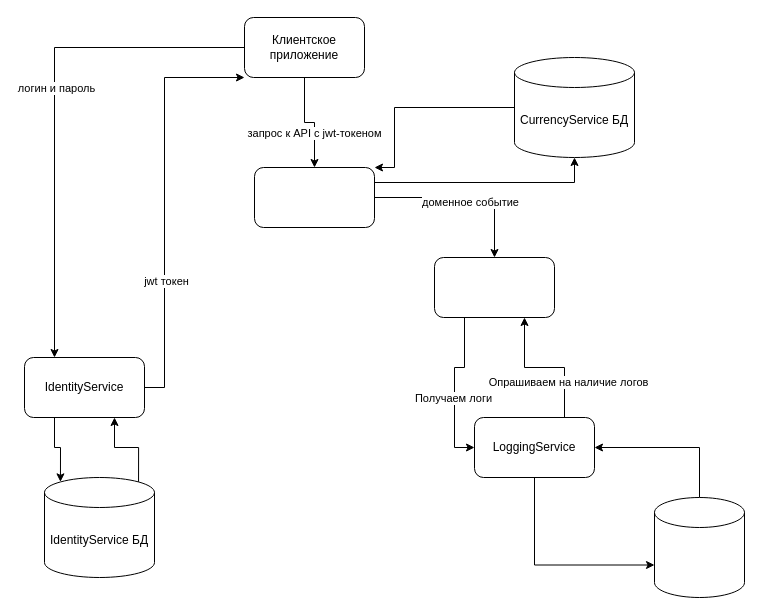
The diagram is 762 pixels wide and 615 high, and some of its shapes have lost their labels. Here are the shapes that lost their labels. From the top down, the box of each, then its label:
(254, 166, 374, 228): CurrencyService
(434, 256, 554, 318): RabbitMQ/Kafka
(654, 496, 744, 598): LoggingService БД
